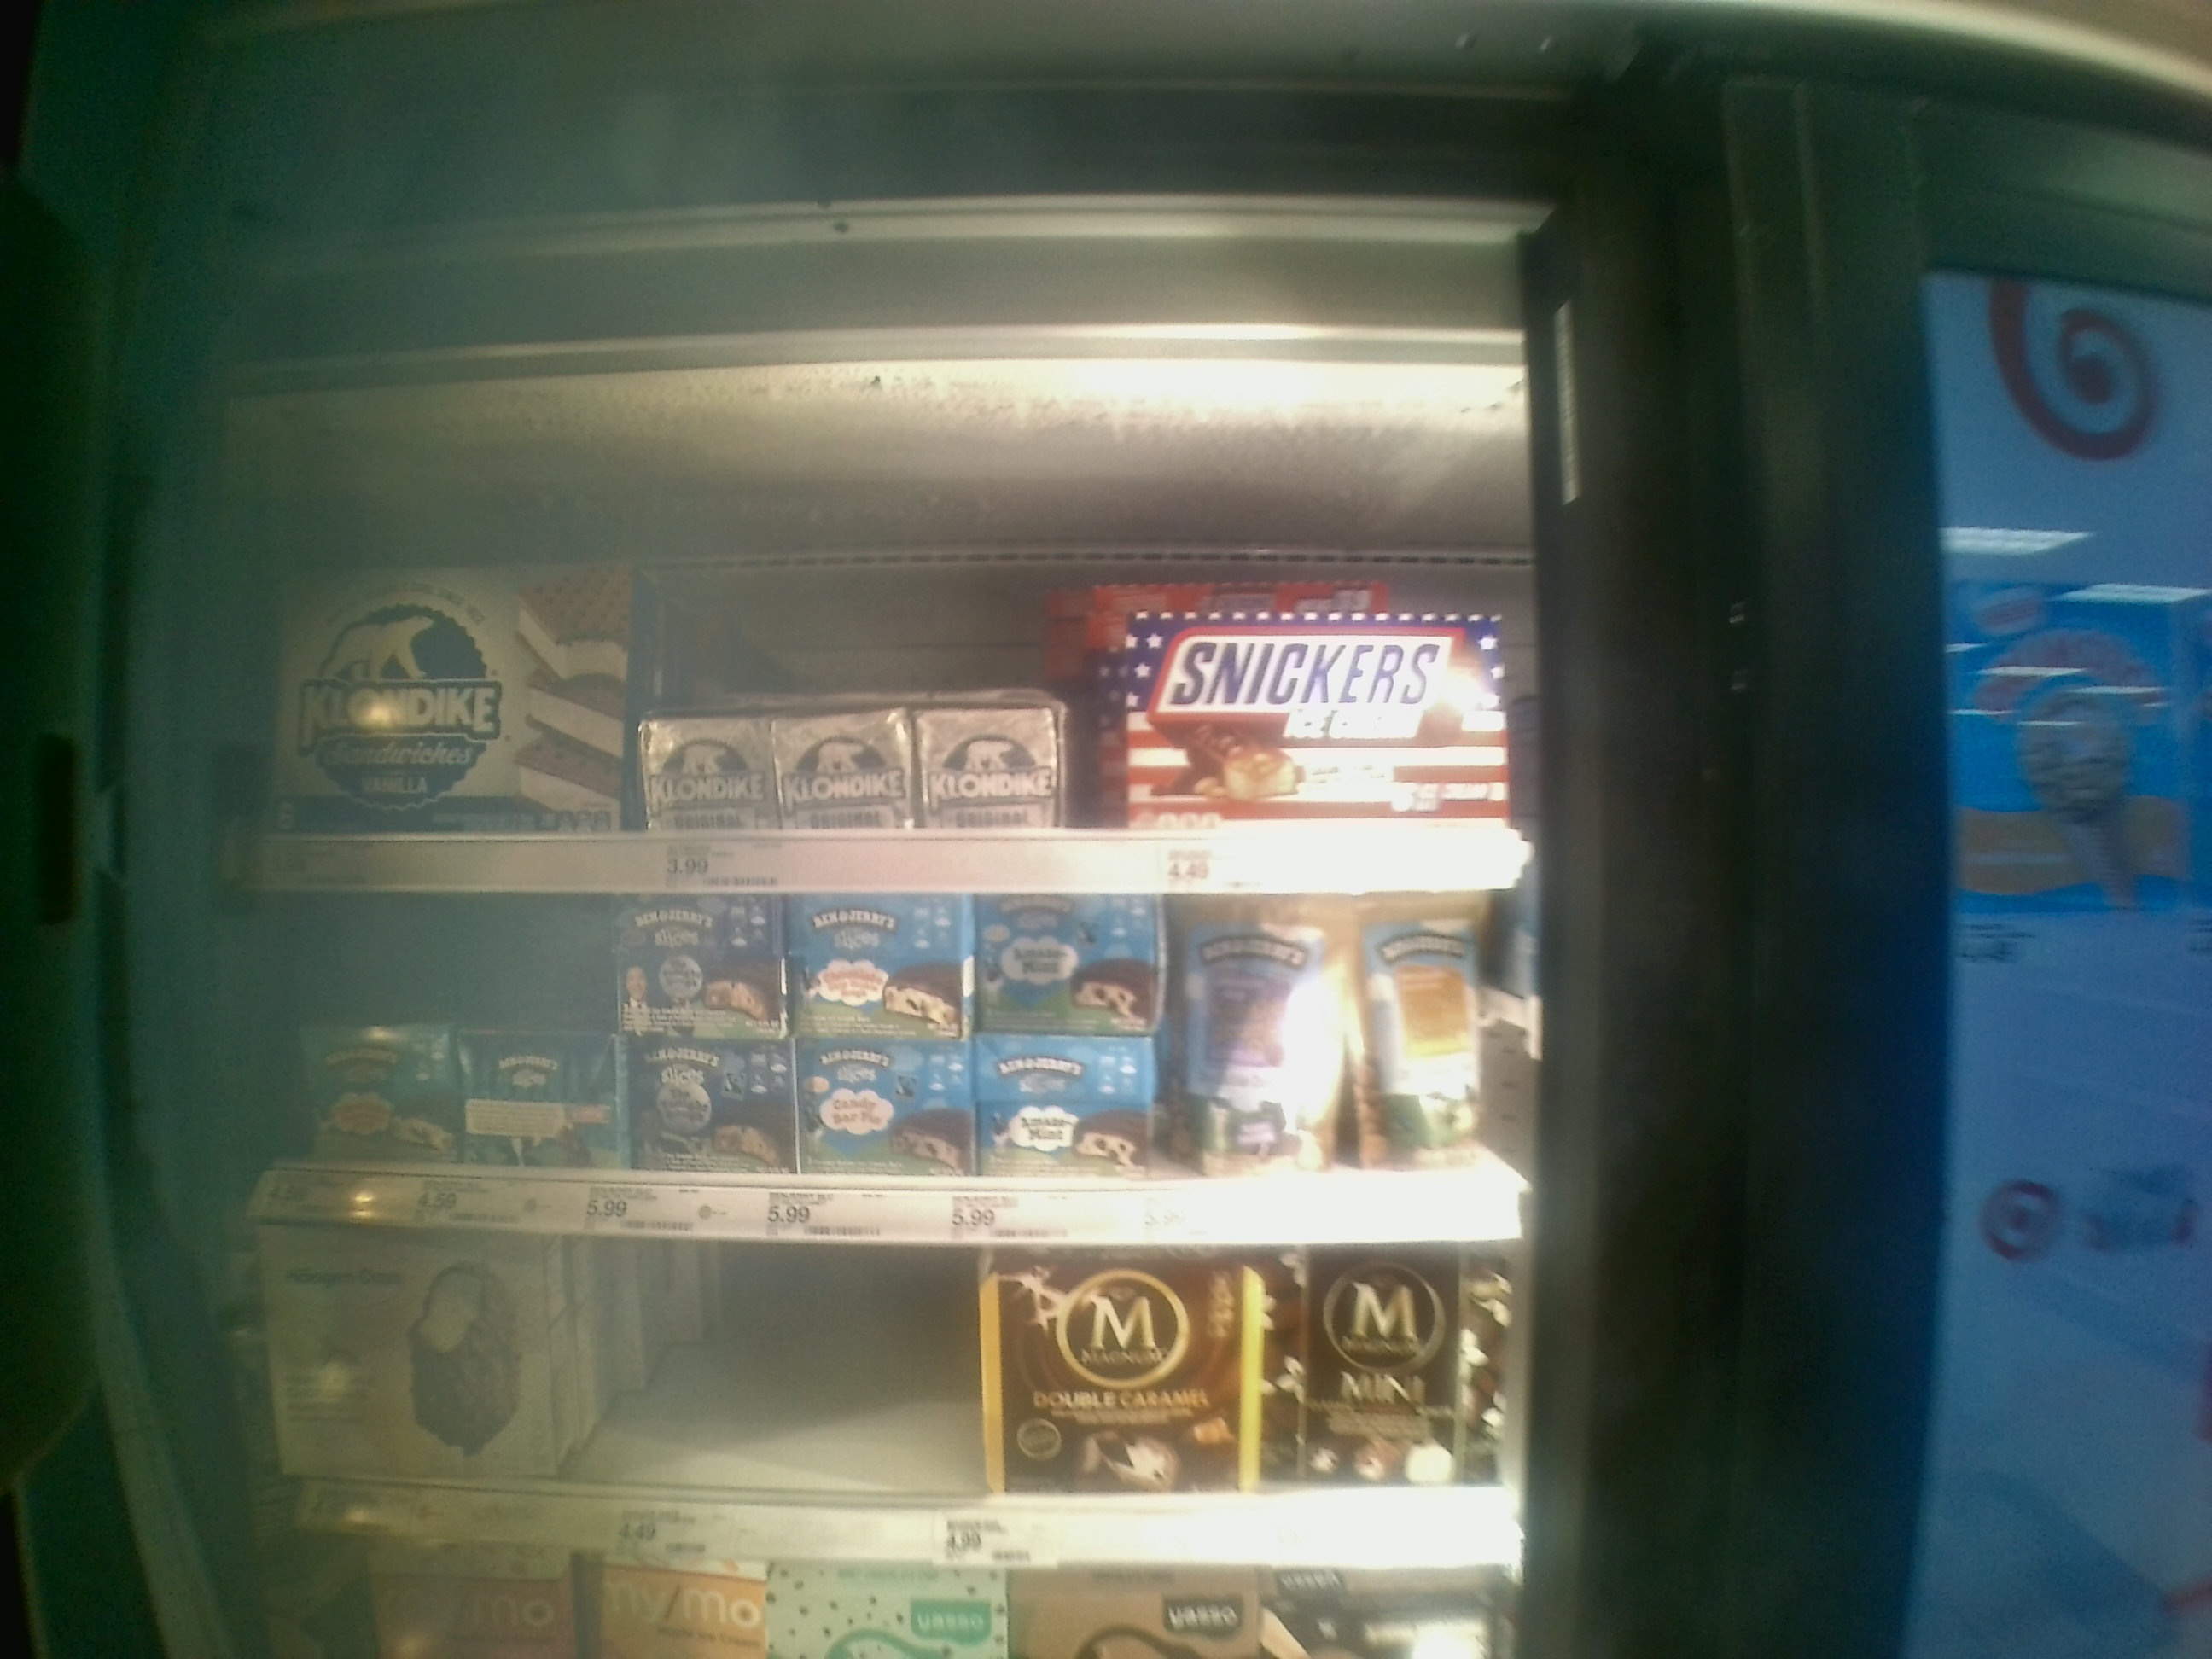ice-cream-shelf: (228, 448, 1536, 889), (230, 887, 1531, 1239), (235, 1229, 1526, 1567)
